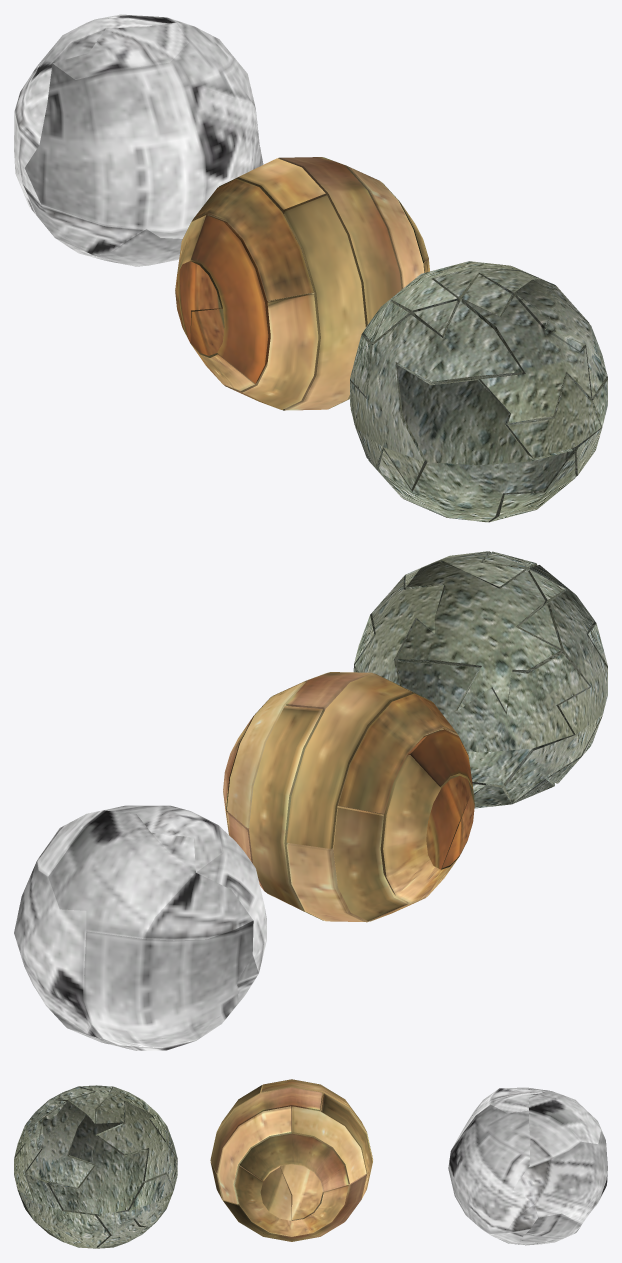
The model's file is BallPieces.FBX.
The picture shows the model from 3 angles, top to bottom: view 1: azimuth 30°, elevation 25°; view 2: azimuth 150°, elevation 25°; view 3: azimuth 270°, elevation 25°; orthographic projection. The views are drawn at different scales.
Visible parts, largest first — view 1: Ball_Paper_piece07, Ball_Stone_piece16, Ball_Stone_piece04, Ball_Wood_piece03, Ball_Wood_piece07, Ball_Stone_piece02, Ball_Wood_piece15, Ball_Wood_piece10, Ball_Wood_piece14, Ball_Paper_piece06, Ball_Paper_piece03, Ball_Paper_piece04 (+17 smaller); view 2: Ball_Paper_piece16, Ball_Stone_piece06, Ball_Stone_piece13, Ball_Paper_piece18, Ball_Wood_piece13, Ball_Wood_piece06, Ball_Paper_piece08, Ball_Stone_piece04, Ball_Wood_piece11, Ball_Wood_piece15, Ball_Wood_piece16, Ball_Paper_piece02 (+12 smaller); view 3: Ball_Stone_piece05, Ball_Wood_piece04, Ball_Paper_piece04, Ball_Paper_piece06, Ball_Wood_piece05, Ball_Paper_piece08, Ball_Stone_piece11, Ball_Stone_piece01, Ball_Stone_piece12, Ball_Wood_piece09, Ball_Wood_piece08, Ball_Wood_piece10 (+18 smaller).
Boxes of the visible parts, box(x1,y1,x2,y2) form: Ball_Paper_piece07: box(24, 62, 204, 232); Ball_Stone_piece16: box(368, 364, 572, 522); Ball_Stone_piece04: box(350, 301, 522, 489); Ball_Wood_piece03: box(284, 195, 365, 410); Ball_Wood_piece07: box(190, 215, 270, 383); Ball_Stone_piece02: box(462, 296, 591, 423); Ball_Wood_piece15: box(183, 178, 314, 301); Ball_Wood_piece10: box(280, 157, 401, 326); Ball_Wood_piece14: box(224, 292, 318, 409); Ball_Paper_piece06: box(194, 86, 263, 206); Ball_Paper_piece03: box(52, 22, 188, 79); Ball_Paper_piece04: box(170, 22, 255, 121); Ball_Paper_piece16: box(84, 920, 258, 1048); Ball_Stone_piece06: box(396, 561, 560, 711); Ball_Stone_piece13: box(396, 653, 589, 785); Ball_Paper_piece18: box(48, 810, 195, 938); Ball_Wood_piece13: box(286, 673, 411, 848); Ball_Wood_piece06: box(380, 755, 472, 902); Ball_Paper_piece08: box(14, 860, 92, 1033); Ball_Stone_piece04: box(504, 565, 607, 802); Ball_Wood_piece11: box(249, 706, 324, 910); Ball_Wood_piece15: box(337, 693, 466, 814); Ball_Wood_piece16: box(333, 806, 407, 921); Ball_Paper_piece02: box(143, 873, 253, 940); Ball_Stone_piece05: box(49, 1114, 155, 1247); Ball_Wood_piece04: box(239, 1133, 348, 1219); Ball_Paper_piece04: box(463, 1104, 550, 1203); Ball_Paper_piece06: box(448, 1123, 534, 1233); Ball_Wood_piece05: box(235, 1165, 348, 1236); Ball_Paper_piece08: box(535, 1131, 607, 1223); Ball_Stone_piece11: box(26, 1101, 95, 1187); Ball_Stone_piece01: box(19, 1173, 109, 1248); Ball_Stone_piece12: box(97, 1101, 177, 1188); Ball_Wood_piece09: box(217, 1106, 291, 1204); Ball_Wood_piece08: box(292, 1106, 366, 1183); Ball_Wood_piece10: box(210, 1087, 321, 1172).
Bounding box in the file's own units: 4.66 × 4.33 × 15.46.
Materials: 3 (3 with a texture image).
